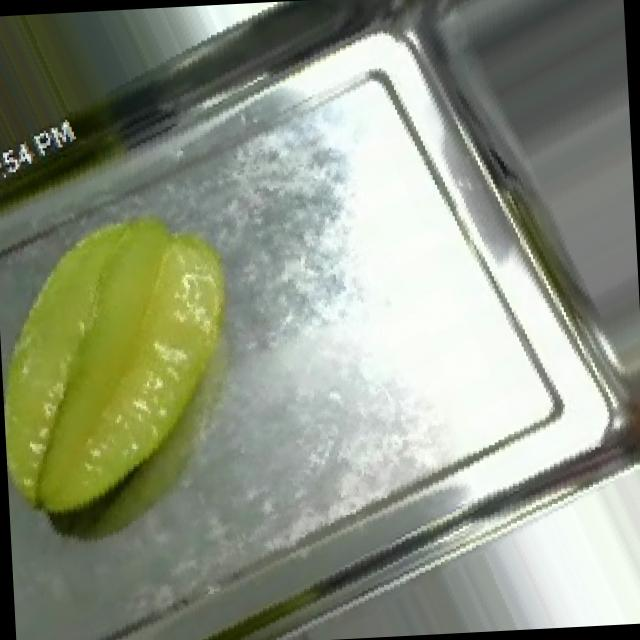fruit: (0, 172, 310, 567)
